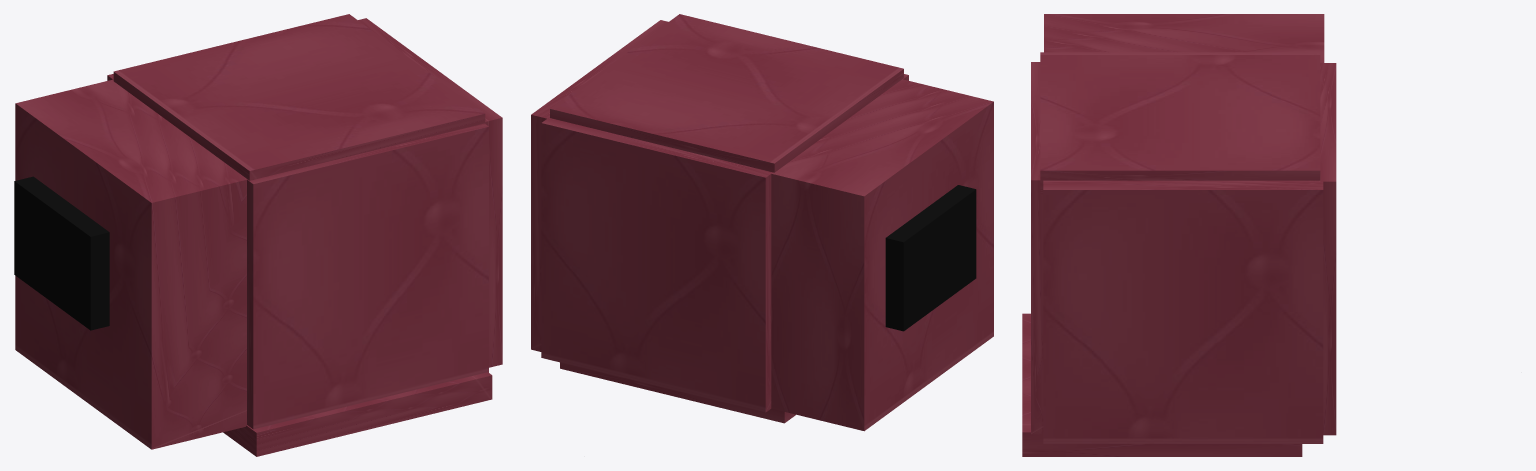
The model's file is red room environnment.fbx.
The picture shows the model from 3 angles, left to right: view 1: azimuth 30°, elevation 25°; view 2: azimuth 150°, elevation 25°; view 3: azimuth 270°, elevation 25°; orthographic projection. The views are drawn at different scales.
Visible parts, largest first — view 1: pCube10; view 2: pCube10; view 3: pCube10.
Boxes of the visible parts, x1,y1,x2,y2 form: pCube10: [14, 14, 502, 456]; pCube10: [531, 14, 993, 431]; pCube10: [1022, 14, 1336, 456].
Size of the model in its own units: 14.07 by 10.09 by 15.9.
3 materials, 1 textured.
